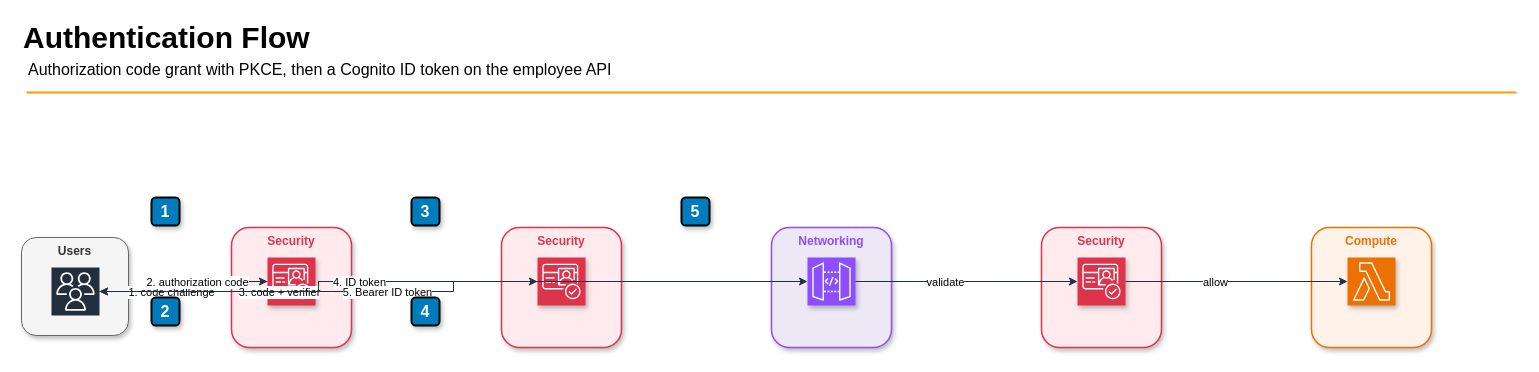
This 1539x372 diagram has some shape labels left out. Here are the shapes that lost their labels. From the top down, the centre of each, then its label:
At point (292, 282): "Managed Login authorize".
At point (562, 282): "Token Endpoint PKCE exchange".
At point (832, 282): "API Gateway Bearer ID token".
At point (1102, 282): "Authorizer validates token".
At point (1372, 282): "Backend Lambda employee lookup".
